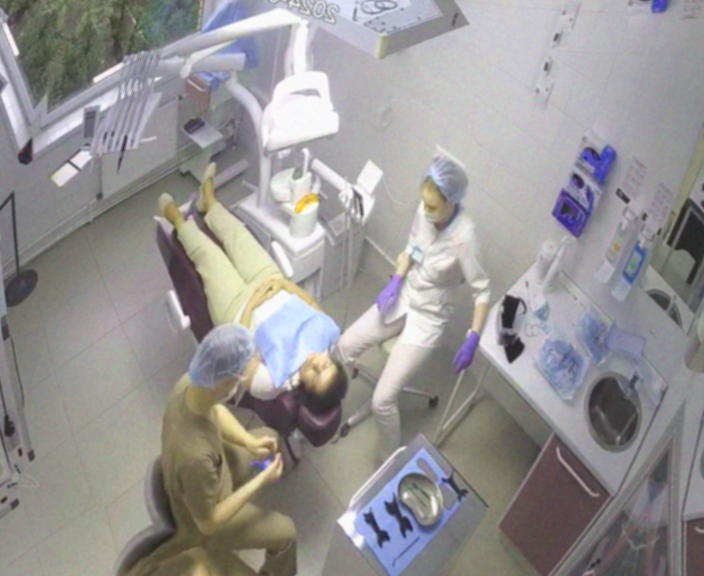Patient: (98, 147, 408, 453)
